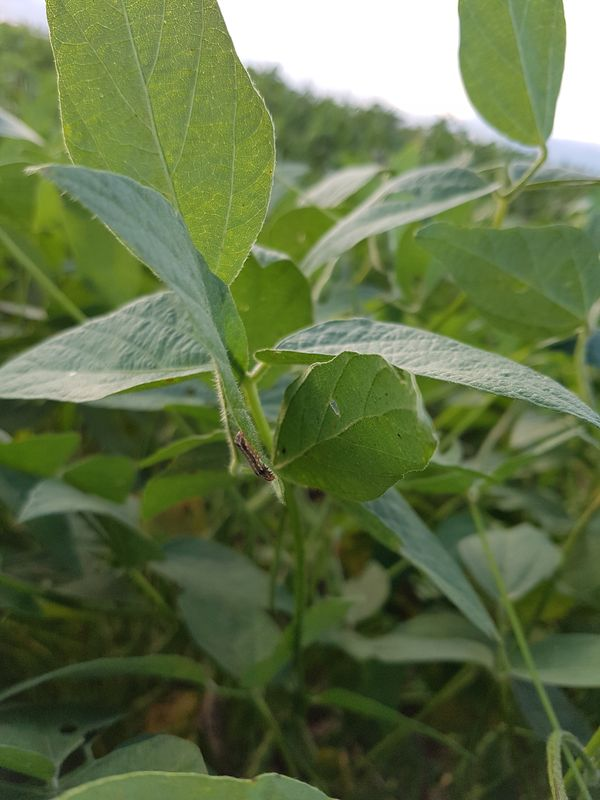Spodoptera_albula: (220, 423, 286, 497)
